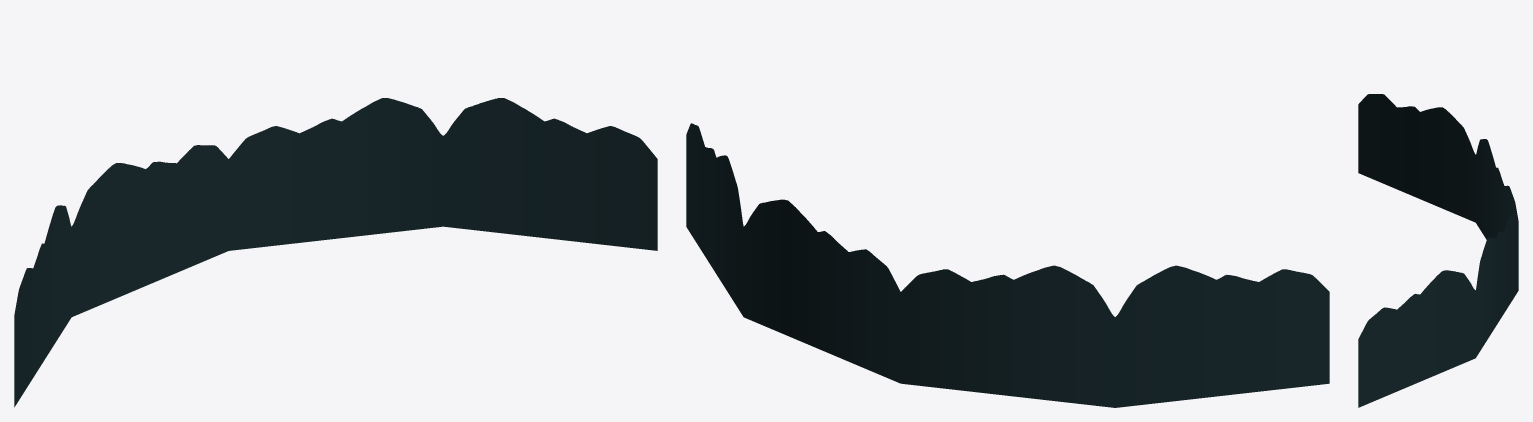
Rendered from QSMY_City_YuanShan03.FBX.
3 renders of one model, left to right at view 1: azimuth 30°, elevation 25°; view 2: azimuth 150°, elevation 25°; view 3: azimuth 270°, elevation 25°, orthographic. The views are drawn at different scales.
Parts seen in each view (by area): view 1: Object33; view 2: Object33; view 3: Object33.
Boxes of the visible parts, box(x1,y1,x2,y2) form: Object33: box(14, 98, 657, 407); Object33: box(686, 123, 1329, 407); Object33: box(1358, 94, 1518, 407).
Bounding box in the file's own units: 621 × 196 × 179.
Materials: 1 (1 with a texture image).
